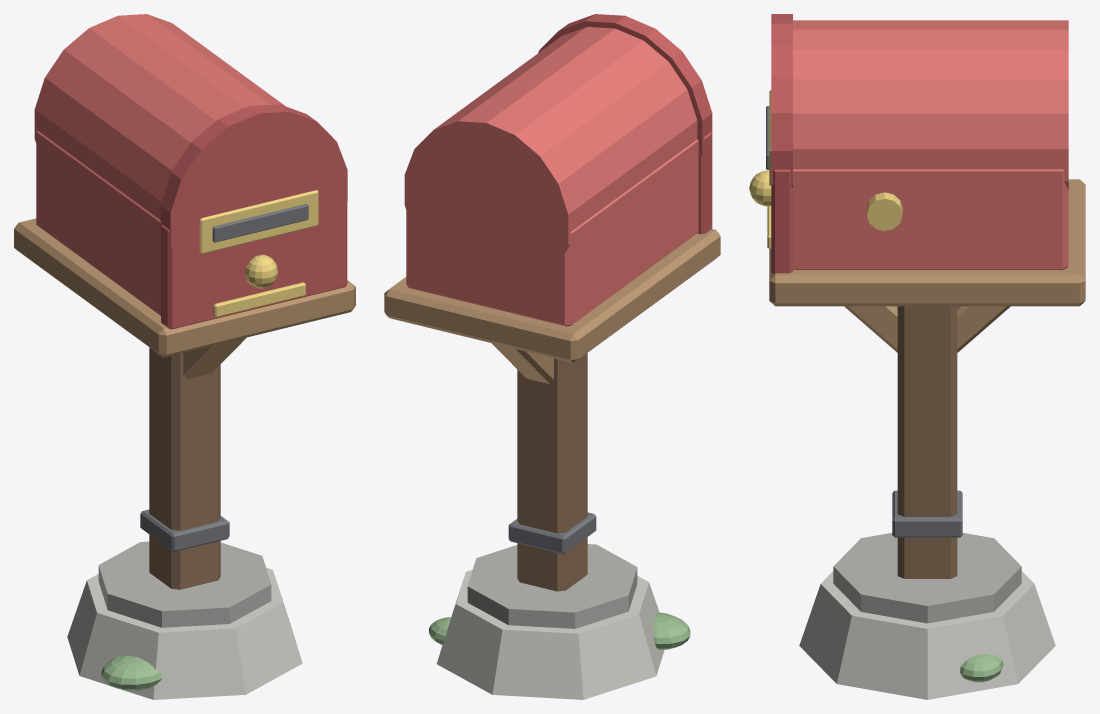
Rendered from mailbox.glb.
The picture shows the model from 3 angles, left to right: view 1: azimuth 30°, elevation 25°; view 2: azimuth 150°, elevation 25°; view 3: azimuth 270°, elevation 25°; orthographic projection. The views are drawn at different scales.
Visible parts, largest first — view 1: BoxArch, FrontRim, StonePlinth, Post, BoxLower, TrayBase, StoneCap, FrontRimSides, SlotFrame, PostBand, SlotOpening, PlinthMoss1 (+3 smaller); view 2: BoxArch, BoxLower, StonePlinth, Post, TrayBase, StoneCap, FrontRim, PostBand, FrontRimSides, Bracket_1, PlinthMoss1; view 3: BoxArch, BoxLower, StonePlinth, Post, TrayBase, StoneCap, FrontRim, FrontRimSides, PostBand, Bracket_1, Bracket_-1, FlagBoss (+2 smaller).
Part boxes in pixels (left/top/right/bottom): BoxArch: left=34, top=14, right=285, bottom=219; FrontRim: left=160, top=104, right=347, bottom=301; StonePlinth: left=67, top=567, right=302, bottom=699; Post: left=149, top=347, right=220, bottom=589; BoxLower: left=36, top=130, right=160, bottom=315; TrayBase: left=14, top=218, right=355, bottom=357; StoneCap: left=98, top=541, right=271, bottom=627; FrontRimSides: left=161, top=190, right=347, bottom=329; SlotFrame: left=199, top=190, right=318, bottom=254; PostBand: left=140, top=509, right=229, bottom=551; SlotOpening: left=212, top=204, right=308, bottom=242; PlinthMoss1: left=101, top=655, right=162, bottom=690; BoxArch: left=404, top=27, right=697, bottom=298; BoxLower: left=406, top=139, right=698, bottom=326; StonePlinth: left=436, top=570, right=664, bottom=699; Post: left=517, top=353, right=587, bottom=591; TrayBase: left=384, top=229, right=720, bottom=362; StoneCap: left=467, top=544, right=637, bottom=628; FrontRim: left=538, top=14, right=712, bottom=161; PostBand: left=508, top=512, right=596, bottom=554; FrontRimSides: left=697, top=132, right=712, bottom=234; Bracket_1: left=491, top=343, right=553, bottom=384; PlinthMoss1: left=653, top=612, right=690, bottom=649; BoxArch: left=793, top=20, right=1068, bottom=189; BoxLower: left=793, top=169, right=1068, bottom=269; StonePlinth: left=799, top=571, right=1055, bottom=699; Post: left=897, top=306, right=957, bottom=578; TrayBase: left=769, top=179, right=1085, bottom=306; StoneCap: left=833, top=533, right=1021, bottom=623; FrontRim: left=771, top=14, right=792, bottom=188; FrontRimSides: left=771, top=169, right=792, bottom=273; PostBand: left=892, top=490, right=962, bottom=537; Bracket_1: left=957, top=306, right=1010, bottom=352; Bracket_-1: left=844, top=306, right=897, bottom=352; FlagBoss: left=866, top=192, right=902, bottom=230.
Size of the model in its own units: 0.6077 by 1.61 by 0.787.
